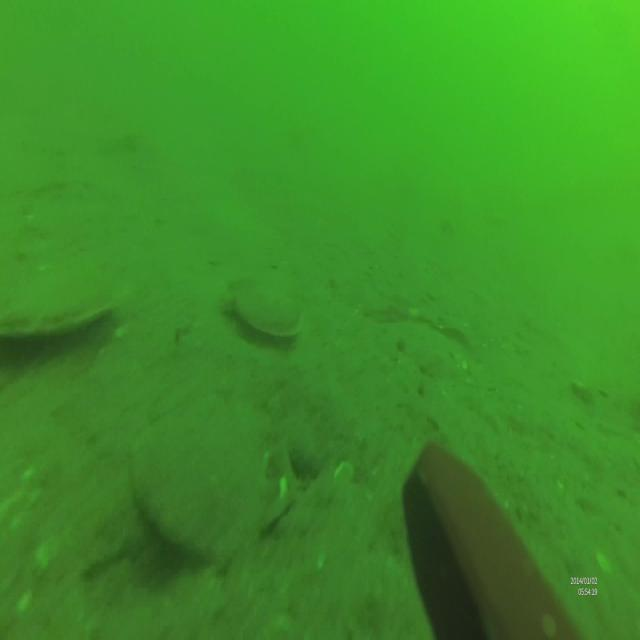scallop: (134, 385, 292, 561), (0, 278, 132, 355), (233, 277, 303, 347)
